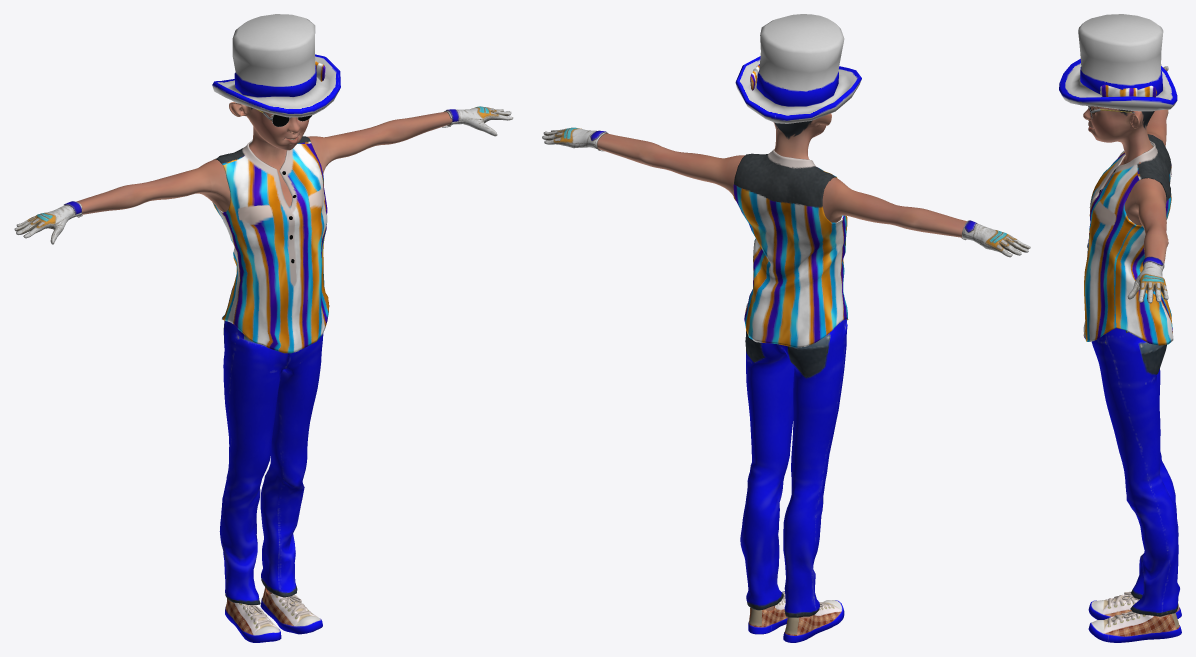
File: kid_old.fbx
3 views of the same model, side by side, from view 1: azimuth 30°, elevation 25°; view 2: azimuth 150°, elevation 25°; view 3: azimuth 270°, elevation 25° (orthographic). The views are drawn at different scales.
Parts seen in each view (by area): view 1: Bottoms, Tops, Body, Hats, Shoes, Gloves; view 2: Bottoms, Tops, Hats, Body, Shoes, Gloves; view 3: Bottoms, Tops, Hats, Body, Shoes, Gloves.
Part boxes in pixels (box(x1,y1,x2,y2)): Bottoms: box(219, 320, 323, 604); Tops: box(212, 136, 329, 353); Body: box(76, 102, 452, 593); Hats: box(212, 14, 340, 117); Shoes: box(225, 587, 322, 642); Gloves: box(14, 106, 513, 244); Bottoms: box(740, 319, 847, 617); Tops: box(733, 149, 848, 347); Hats: box(735, 14, 861, 123); Body: box(597, 113, 966, 618); Shoes: box(748, 591, 844, 642); Gloves: box(542, 127, 1030, 257); Bottoms: box(1091, 328, 1179, 616); Tops: box(1083, 134, 1173, 345); Hats: box(1059, 14, 1177, 111); Body: box(1083, 106, 1168, 617); Shoes: box(1088, 591, 1181, 642); Gloves: box(1127, 64, 1168, 303).
Bounding box in the file's own units: 149 × 174 × 32.09.
1 material, 1 textured.
